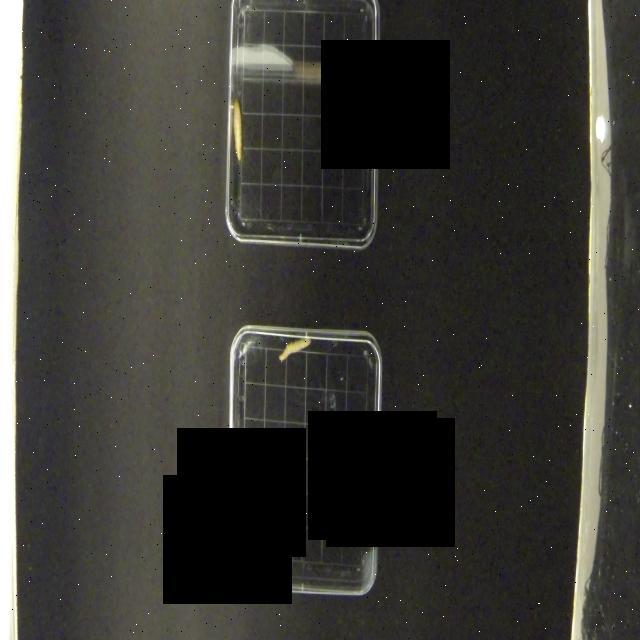larva: (278, 335, 311, 363)
